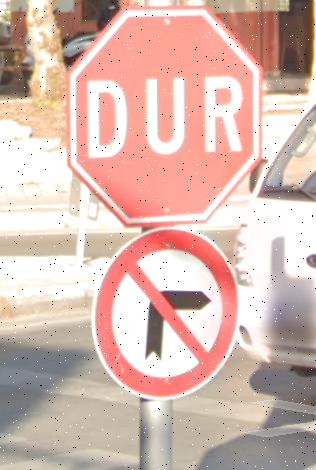rightturnsareforbidden: (93, 233, 242, 399)
stop: (68, 9, 260, 224)
